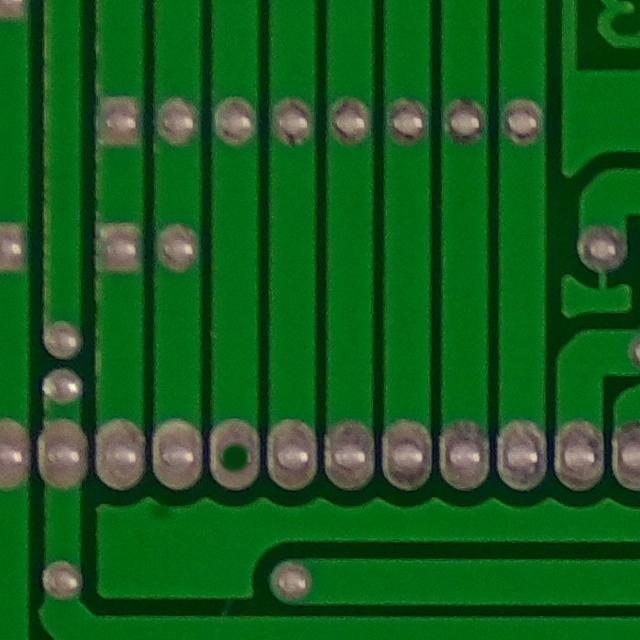missing_hole: (204, 413, 270, 488)
